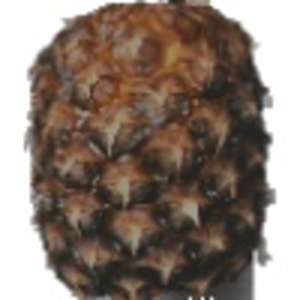abacaxi: (13, 3, 283, 293)
